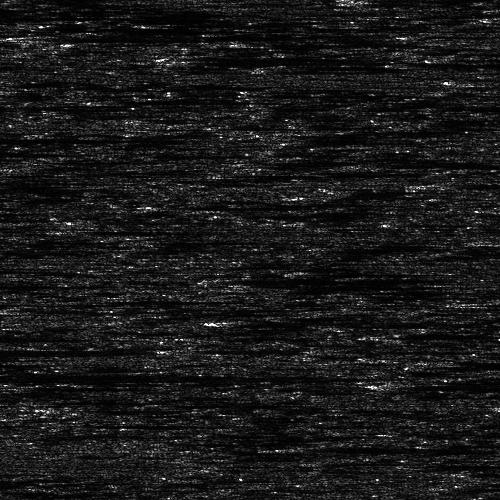rock: (312, 377, 469, 394), (96, 52, 241, 65), (404, 297, 500, 308), (410, 297, 500, 308), (458, 11, 500, 26), (376, 329, 439, 338), (306, 0, 399, 5), (419, 357, 482, 364), (447, 77, 500, 84), (262, 444, 325, 449), (78, 96, 141, 101), (29, 229, 92, 234), (473, 204, 500, 213), (121, 21, 162, 26), (23, 32, 54, 37), (45, 219, 86, 222), (278, 65, 319, 68), (429, 183, 450, 186)
shadow: (169, 52, 376, 65), (0, 130, 137, 149), (391, 377, 500, 394), (0, 345, 158, 356), (39, 32, 341, 37), (0, 12, 143, 19), (408, 329, 500, 338), (0, 372, 263, 375), (142, 21, 298, 26), (294, 444, 449, 449), (110, 96, 263, 101), (467, 297, 500, 308), (451, 357, 500, 364), (299, 65, 407, 68), (66, 219, 164, 222), (353, 0, 409, 5), (61, 229, 110, 234), (440, 183, 500, 186)
